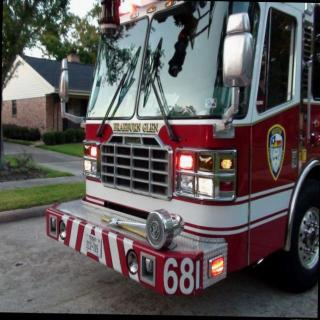Fire_truck: (43, 0, 320, 299)
